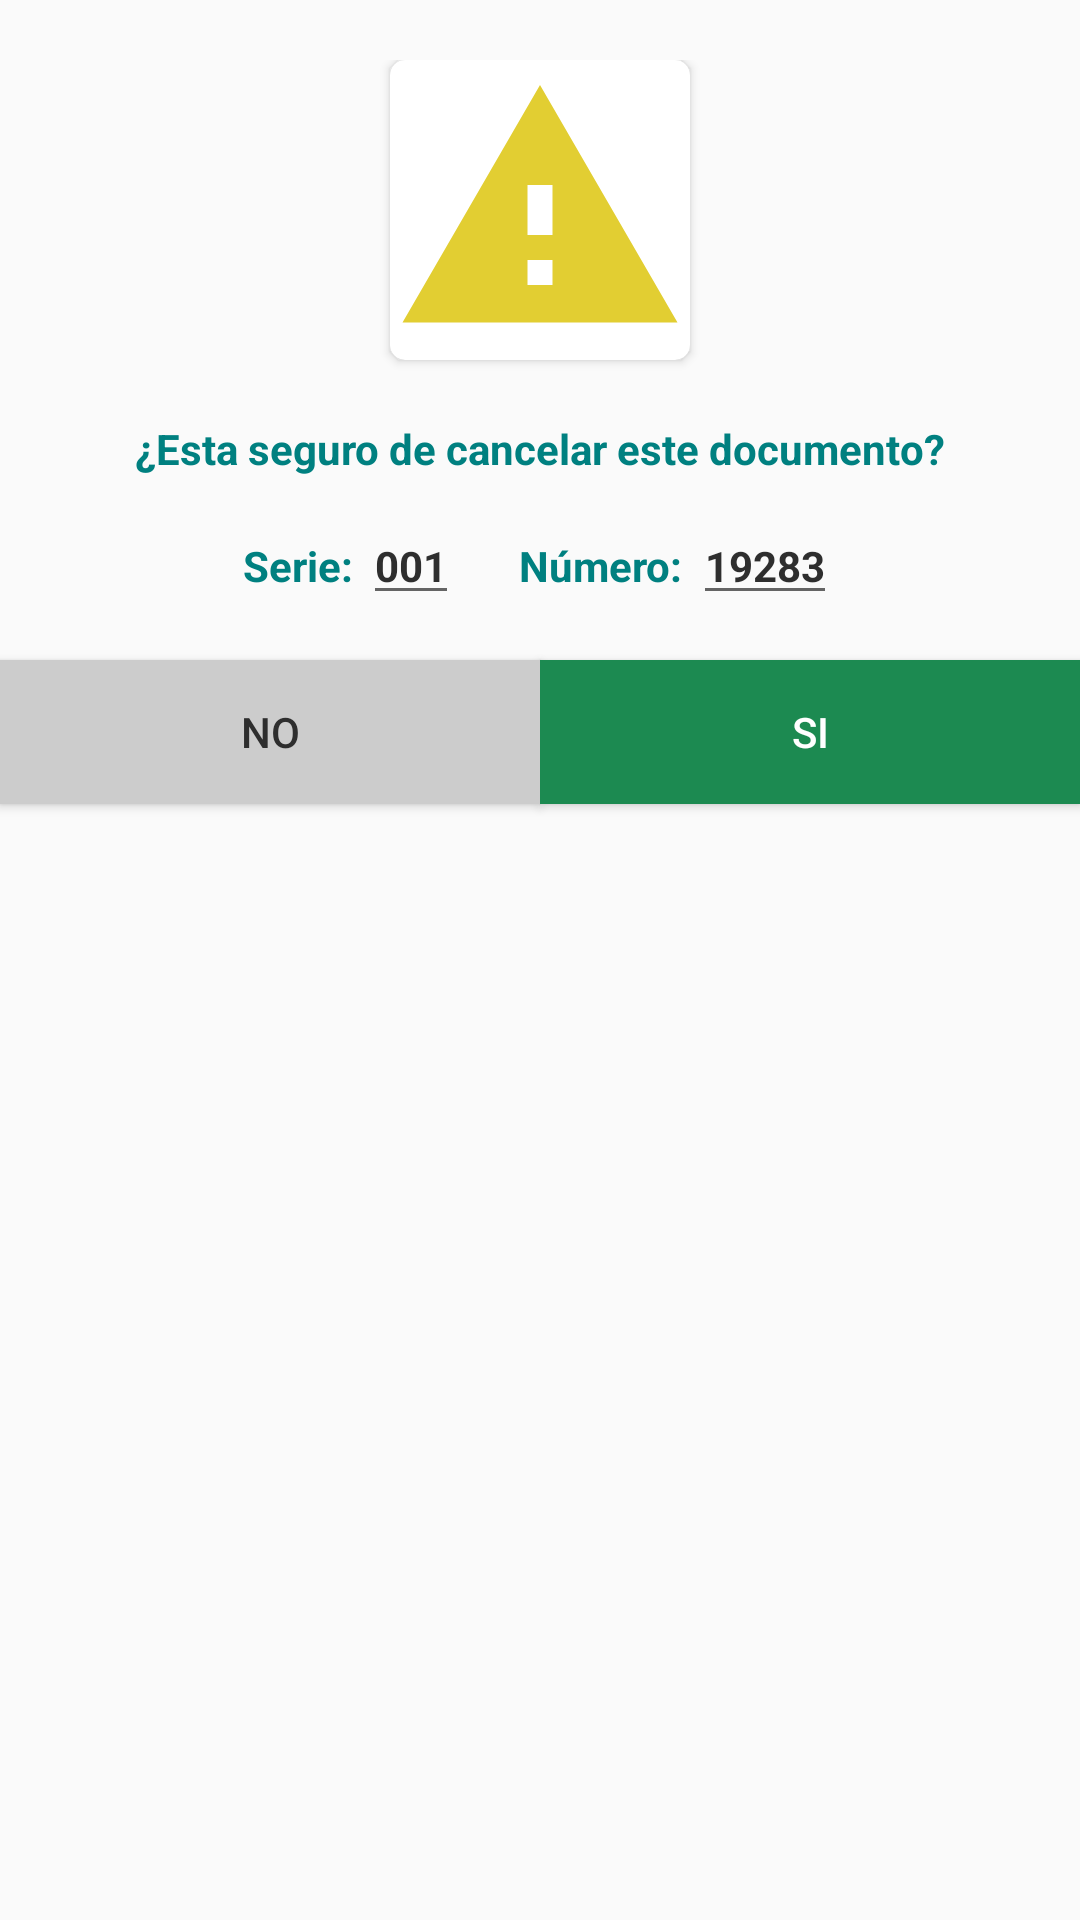

Where icons sit on this 1080×1920 app screen, as bbox(x1, y1, x2, y2):
warning: bbox(390, 60, 690, 360)
